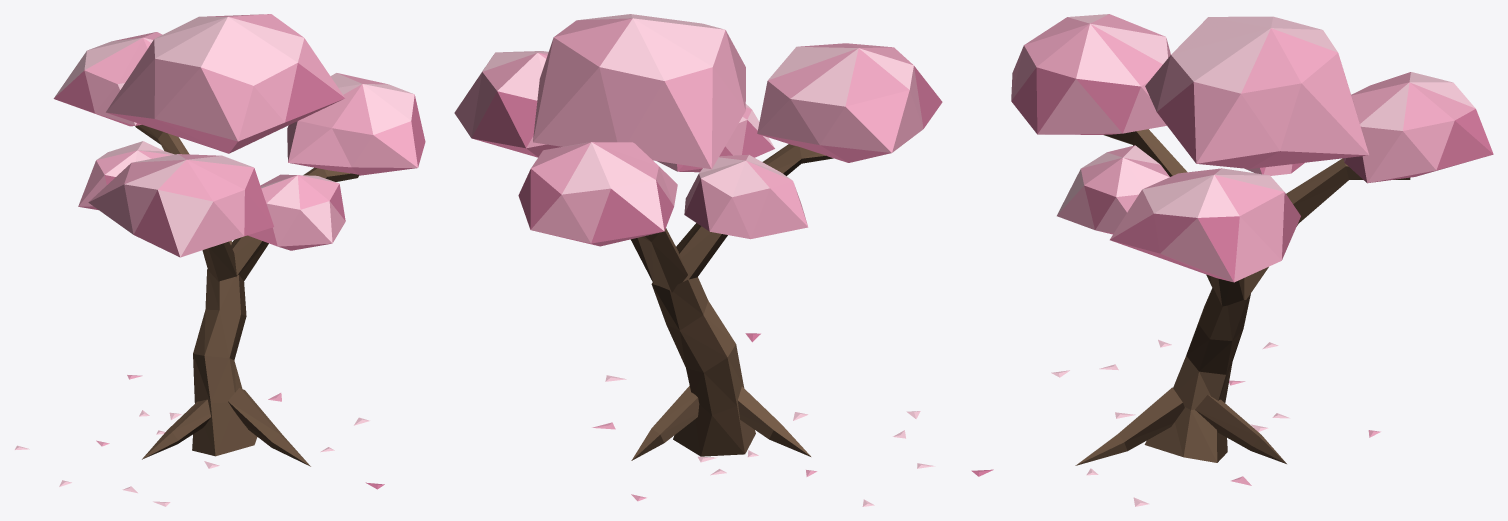
Rendered from tree_sakura_a.fbx.
3 renders of one model, left to right at view 1: azimuth 30°, elevation 25°; view 2: azimuth 150°, elevation 25°; view 3: azimuth 270°, elevation 25°, orthographic. The views are drawn at different scales.
Parts seen in each view (by area): view 1: tree_sakura_a; view 2: tree_sakura_a; view 3: tree_sakura_a.
Boxes of the visible parts, left/top/right/bottom form: tree_sakura_a: left=15, top=14, right=425, bottom=506; tree_sakura_a: left=454, top=14, right=942, bottom=506; tree_sakura_a: left=971, top=14, right=1493, bottom=506.
Bounding box in the file's own units: 5.63 × 5.38 × 5.69.
